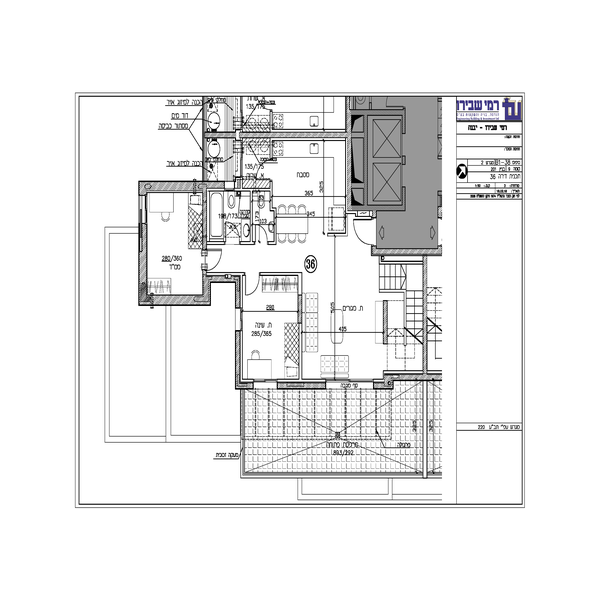door: (345, 213, 385, 251), (247, 218, 274, 246), (238, 264, 260, 298), (202, 244, 228, 270), (253, 154, 274, 184)
room: (233, 269, 434, 389), (202, 129, 350, 248), (138, 177, 215, 308)
wall: (204, 128, 347, 142), (341, 93, 356, 216), (419, 253, 433, 374), (140, 181, 227, 197), (137, 222, 150, 306), (141, 294, 213, 308), (371, 247, 447, 260), (388, 372, 447, 387), (200, 270, 242, 288), (199, 193, 209, 253), (235, 330, 246, 384), (282, 378, 324, 392)
window: (324, 374, 376, 396), (233, 304, 247, 330), (255, 379, 277, 394), (137, 198, 148, 220)
